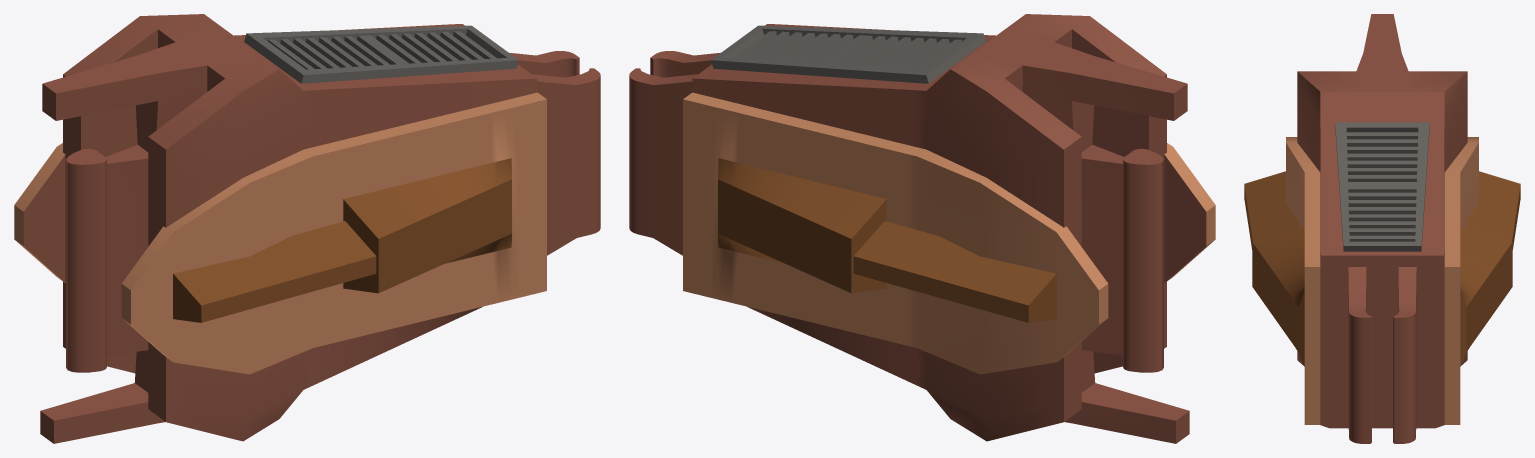
The model's file is Onderdeel Staart Nummer 8.fbx.
3 views of the same model, side by side, from view 1: azimuth 30°, elevation 25°; view 2: azimuth 150°, elevation 25°; view 3: azimuth 270°, elevation 25° (orthographic). The views are drawn at different scales.
Visible parts, largest first — view 1: Onderdeel staart.018; view 2: Onderdeel staart.018; view 3: Onderdeel staart.018.
Part boxes in pixels (bbox=[...]): Onderdeel staart.018: bbox=[14, 14, 600, 443]; Onderdeel staart.018: bbox=[629, 14, 1215, 443]; Onderdeel staart.018: bbox=[1244, 14, 1520, 443].
Size of the model in its own units: 571 by 354 by 307.
